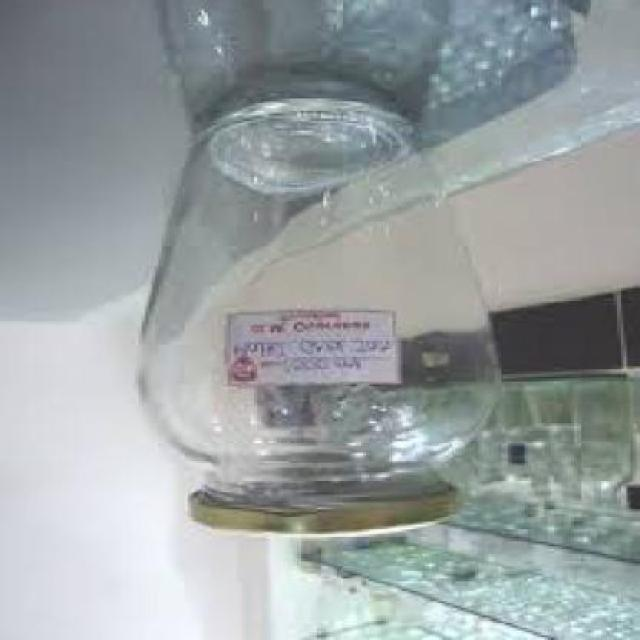GLASS: (0, 3, 637, 332), (132, 102, 494, 504), (283, 537, 637, 638), (560, 377, 637, 509), (522, 379, 568, 519), (482, 387, 530, 507), (343, 596, 406, 638), (307, 583, 356, 632), (406, 608, 454, 638), (448, 616, 495, 638)
METAL: (185, 489, 452, 542)
